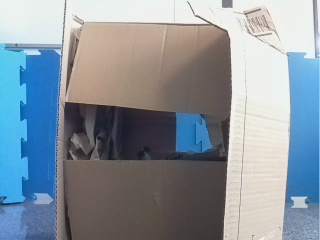caja_rota: (59, 12, 287, 239)
